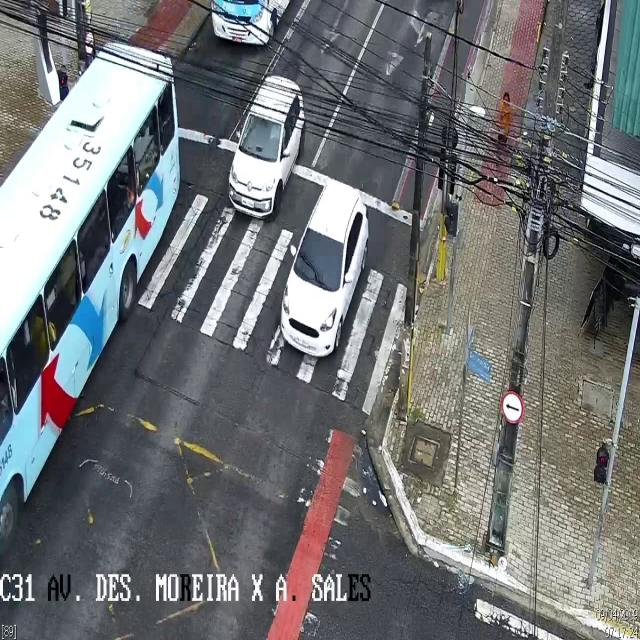Bus: (3, 33, 178, 540), (209, 0, 293, 45)
Car: (279, 184, 368, 356), (228, 76, 296, 220)
